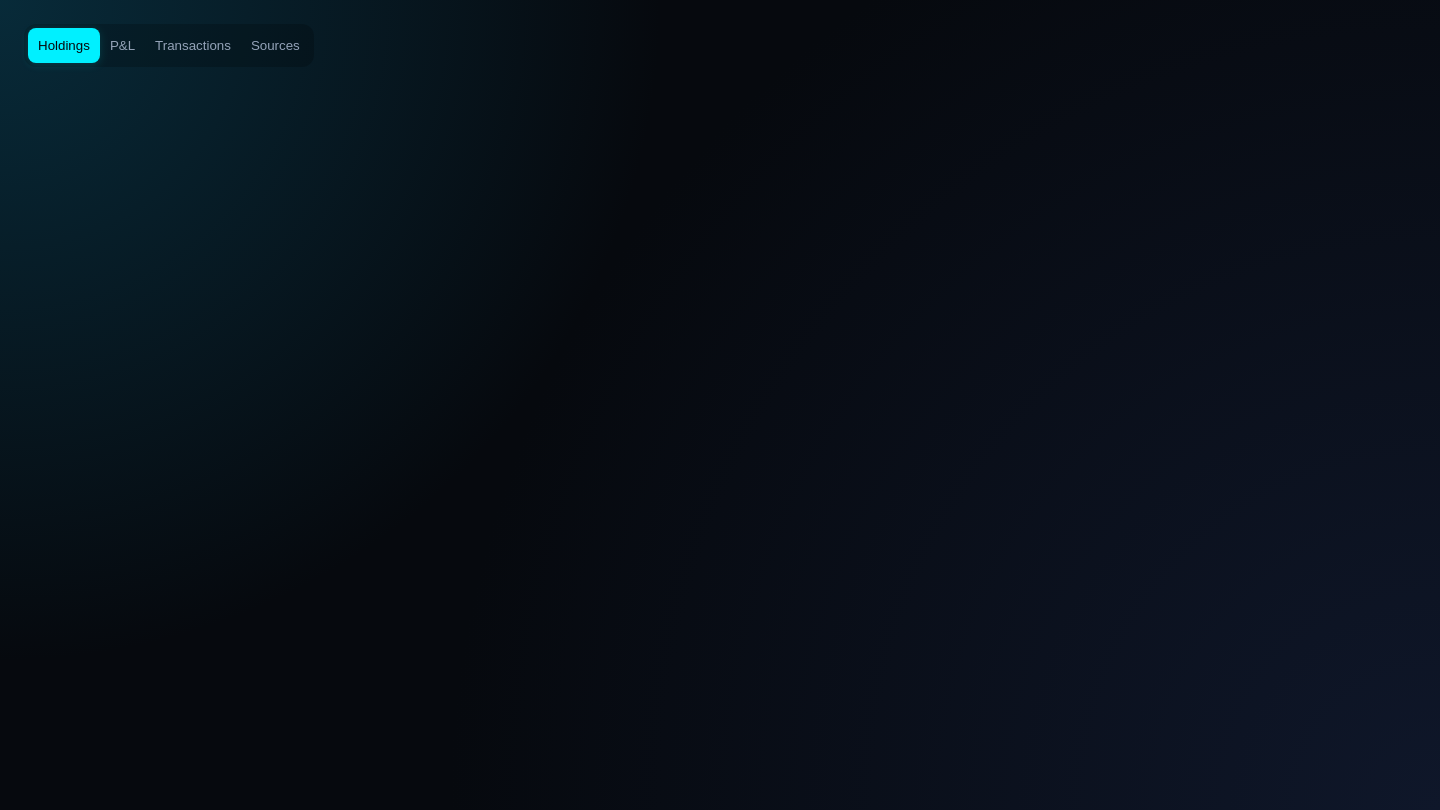
Test: PortfolioPage › tab switching › switches to Sources tab and shows all source panels
Click the tab "Sources".
click(275, 46)  # box [241,28,310,63]
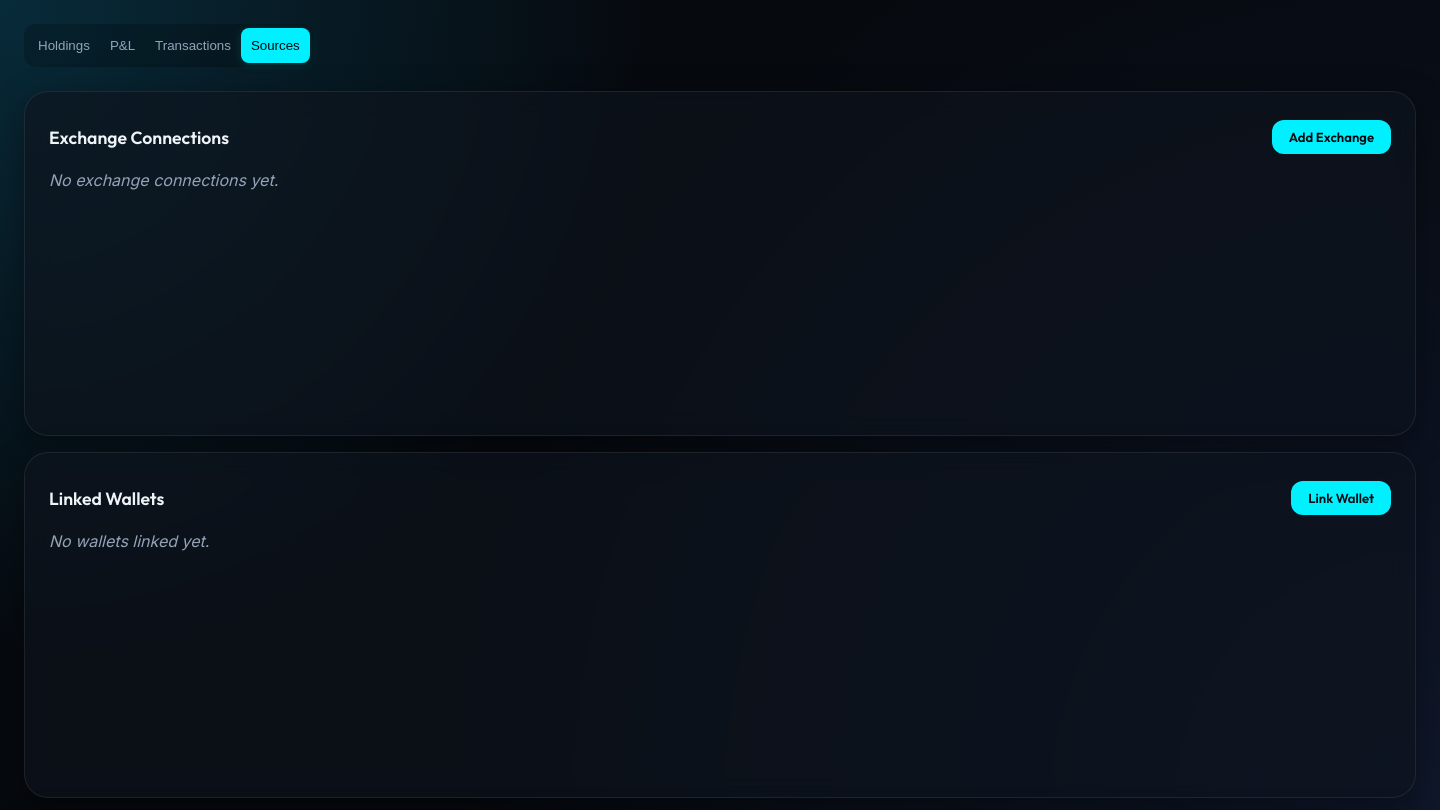
Expected: the heading "Exchange Connections" is shown, [49,126,229,148]
Expected: the heading "Linked Wallets" is shown, [49,487,164,510]
